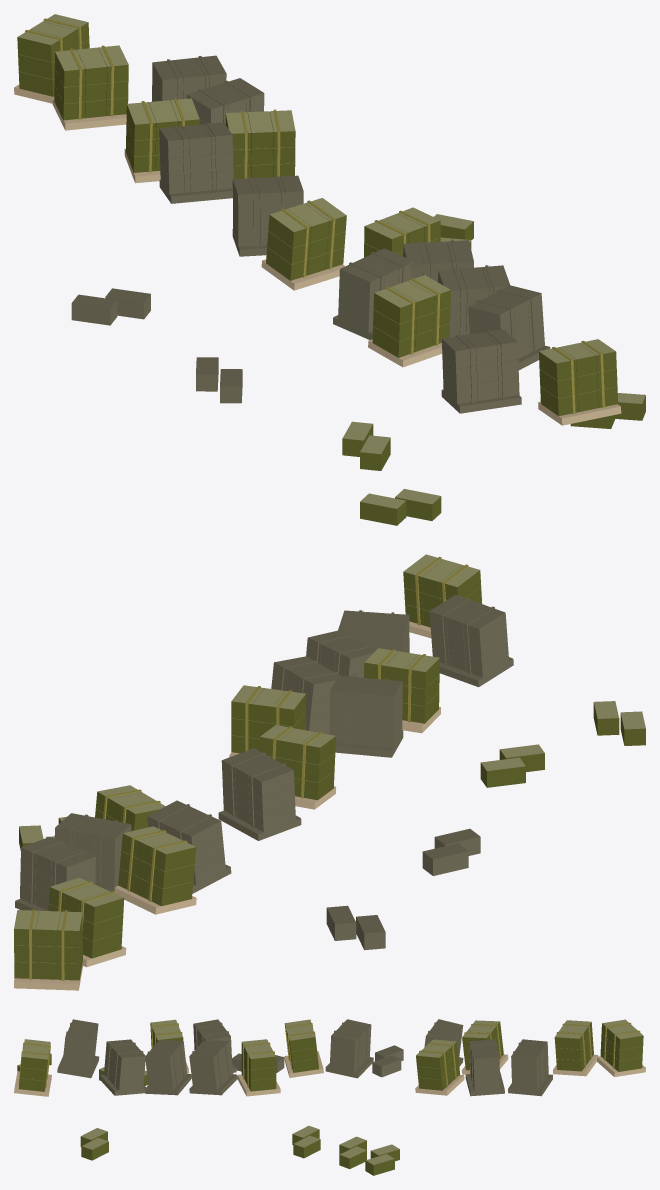
The model's file is SM_CargaMunicion_Destrozado_LOD0.fbx.
The picture shows the model from 3 angles, top to bottom: view 1: azimuth 30°, elevation 25°; view 2: azimuth 150°, elevation 25°; view 3: azimuth 270°, elevation 25°; orthographic projection. The views are drawn at different scales.
Visible parts, largest first — view 1: SM_carga_vagon_v4_LOD0; view 2: SM_carga_vagon_v4_LOD0; view 3: SM_carga_vagon_v4_LOD0.
Part boxes in pixels (x1,y1,x2,y2): SM_carga_vagon_v4_LOD0: (14, 14, 645, 525); SM_carga_vagon_v4_LOD0: (14, 554, 645, 990); SM_carga_vagon_v4_LOD0: (14, 1019, 645, 1175).
Size of the model in its own units: 8.15 by 2.48 by 18.15.
